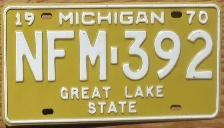2: (184, 28, 215, 81)
3: (121, 28, 149, 83)
9: (152, 29, 183, 81)
F: (45, 27, 76, 85)
M: (78, 28, 109, 84)
N: (13, 29, 44, 84)
